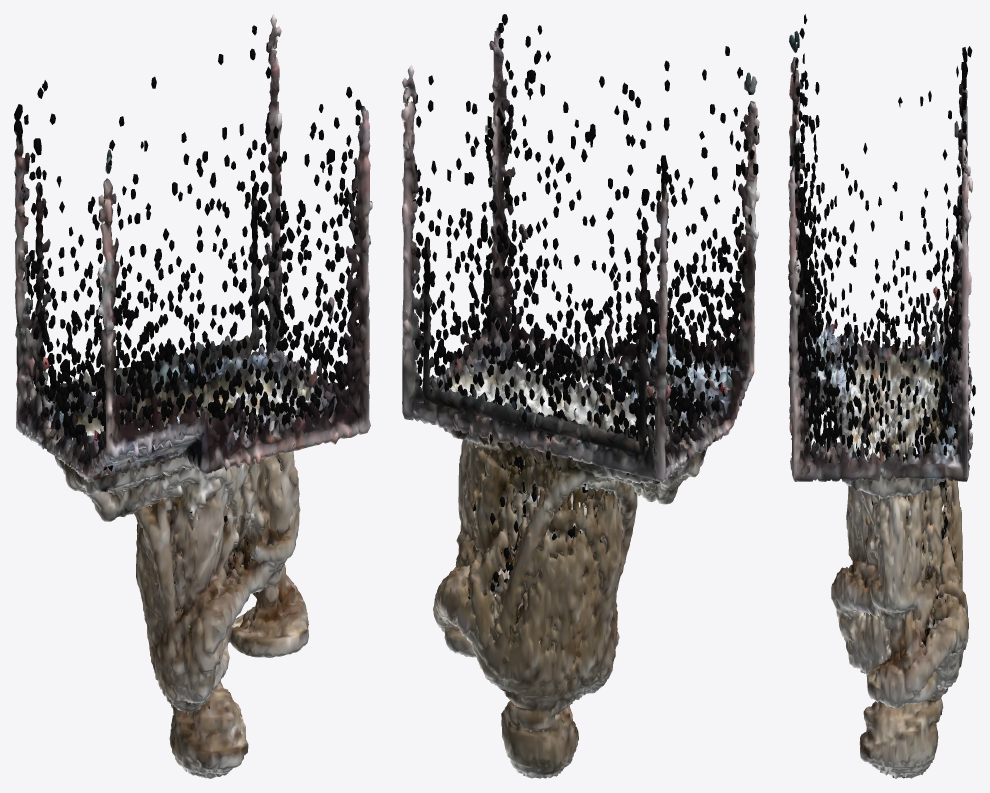
File: angel.glb
3 renders of one model, left to right at view 1: azimuth 30°, elevation 25°; view 2: azimuth 150°, elevation 25°; view 3: azimuth 270°, elevation 25°, orthographic. The views are drawn at different scales.
Visible parts, largest first — view 1: Angel; view 2: Angel; view 3: Angel.
Part boxes in pixels (x1=…): Angel: x1=14, y1=14, x2=372, y2=778; Angel: x1=401, y1=14, x2=759, y2=778; Angel: x1=788, y1=14, x2=975, y2=778.
Bounding box in the file's own units: 0.2388 × 0.6001 × 0.1462.
1 material, 1 textured.
